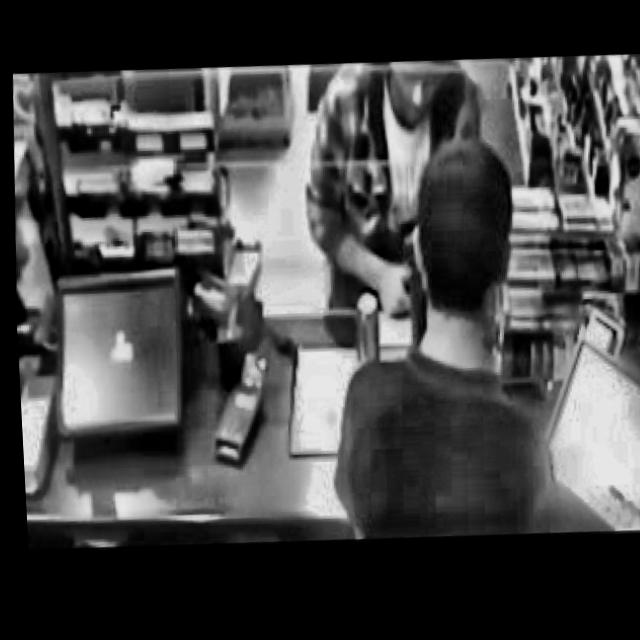robbery: (283, 61, 495, 361)
